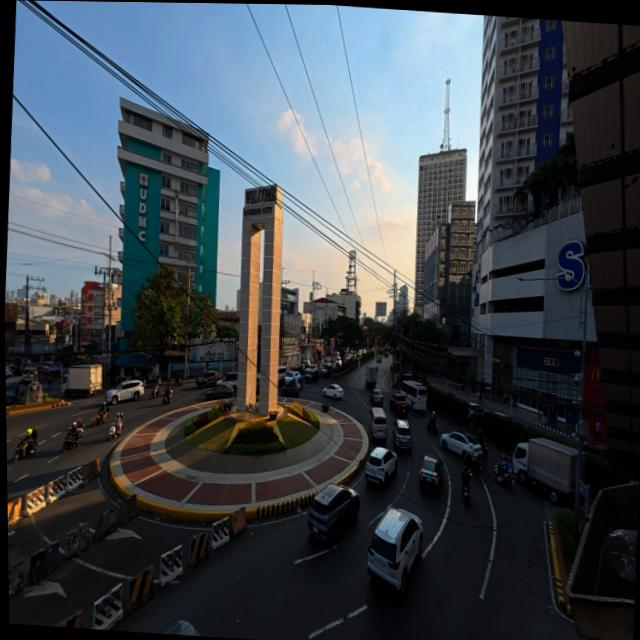bus: (401, 381, 427, 410)
car: (367, 509, 423, 594), (308, 484, 359, 546), (365, 447, 397, 483), (106, 380, 144, 405), (441, 432, 482, 455), (420, 455, 443, 493), (392, 419, 412, 452), (161, 621, 200, 636), (207, 382, 236, 400), (197, 371, 221, 389), (322, 384, 344, 400), (281, 379, 300, 397), (286, 370, 304, 389), (221, 372, 238, 391), (305, 367, 321, 384), (468, 402, 483, 419), (369, 389, 383, 407), (494, 411, 514, 422), (286, 368, 302, 380), (320, 364, 331, 378), (256, 375, 260, 395), (389, 362, 393, 371), (376, 356, 381, 363)
motorcycle: (13, 438, 36, 462), (493, 464, 512, 488), (63, 431, 82, 453), (92, 411, 108, 426), (109, 424, 121, 441), (461, 483, 470, 504), (427, 421, 440, 435), (461, 485, 470, 504), (471, 461, 482, 476), (162, 391, 173, 406), (480, 442, 488, 458), (150, 385, 159, 398), (176, 375, 183, 386)
trucks: (513, 438, 577, 505), (62, 365, 102, 396), (390, 394, 410, 416), (365, 365, 378, 389)
vans: (370, 407, 387, 441), (278, 366, 287, 387)
